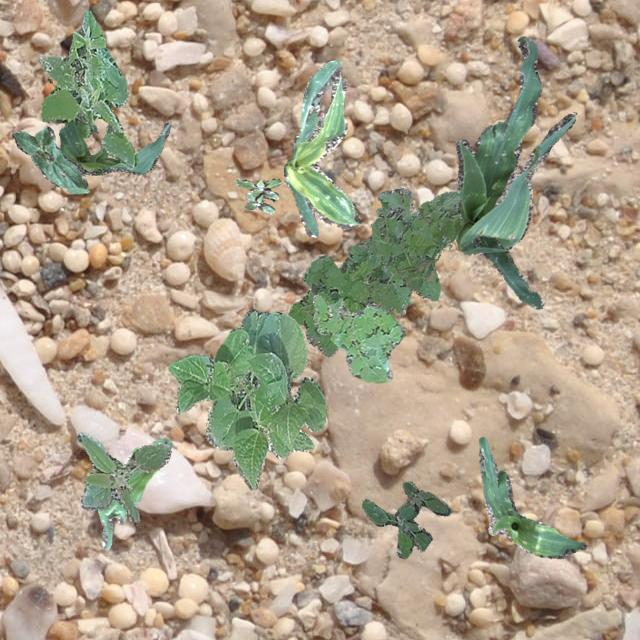crop: (454, 35, 574, 308), (167, 308, 326, 490), (282, 58, 360, 235), (478, 436, 586, 558), (96, 438, 170, 548), (58, 118, 170, 174), (11, 124, 88, 192)
weed: (288, 188, 462, 356), (38, 10, 138, 166), (76, 432, 168, 522), (312, 294, 404, 382), (360, 480, 450, 558), (234, 176, 280, 212)
